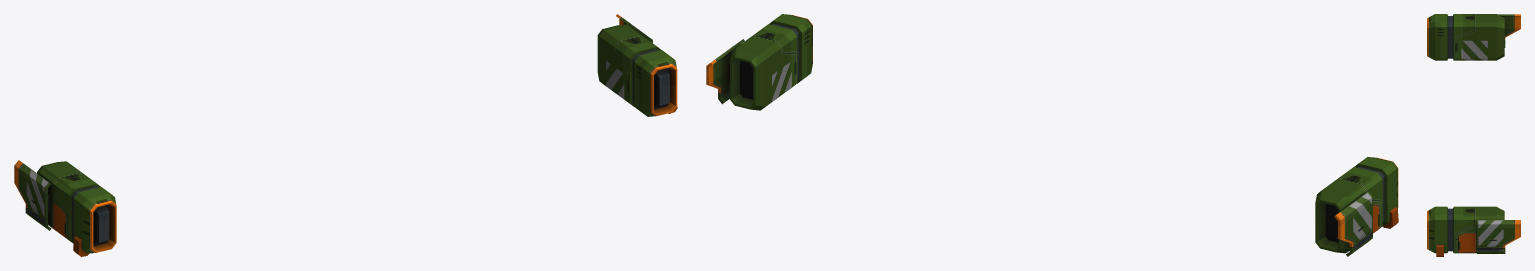
File: Mod-Z_blue.FBX
3 renders of one model, left to right at view 1: azimuth 30°, elevation 25°; view 2: azimuth 150°, elevation 25°; view 3: azimuth 270°, elevation 25°, orthographic. The views are drawn at different scales.
Visible parts, largest first — view 1: Mod-Z_Right, Mod-Z_Left; view 2: Mod-Z_Left, Mod-Z_Right; view 3: Mod-Z_Left, Mod-Z_Right.
Part boxes in pixels (bbox=[...]): Mod-Z_Right: bbox=[14, 160, 116, 256]; Mod-Z_Left: bbox=[597, 14, 677, 116]; Mod-Z_Left: bbox=[706, 14, 812, 110]; Mod-Z_Right: bbox=[1315, 157, 1398, 256]; Mod-Z_Left: bbox=[1427, 206, 1520, 256]; Mod-Z_Right: bbox=[1427, 14, 1520, 60].
Size of the model in its own units: 17598 by 3339 by 1605.
